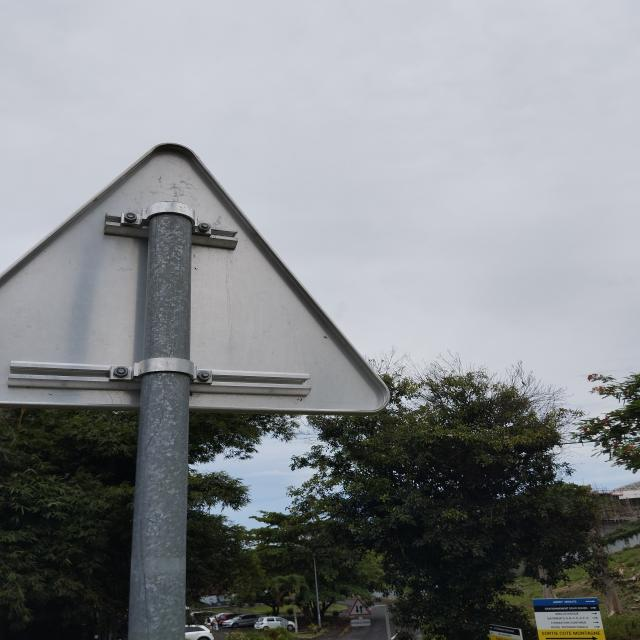Panneau: (1, 132, 393, 421)
